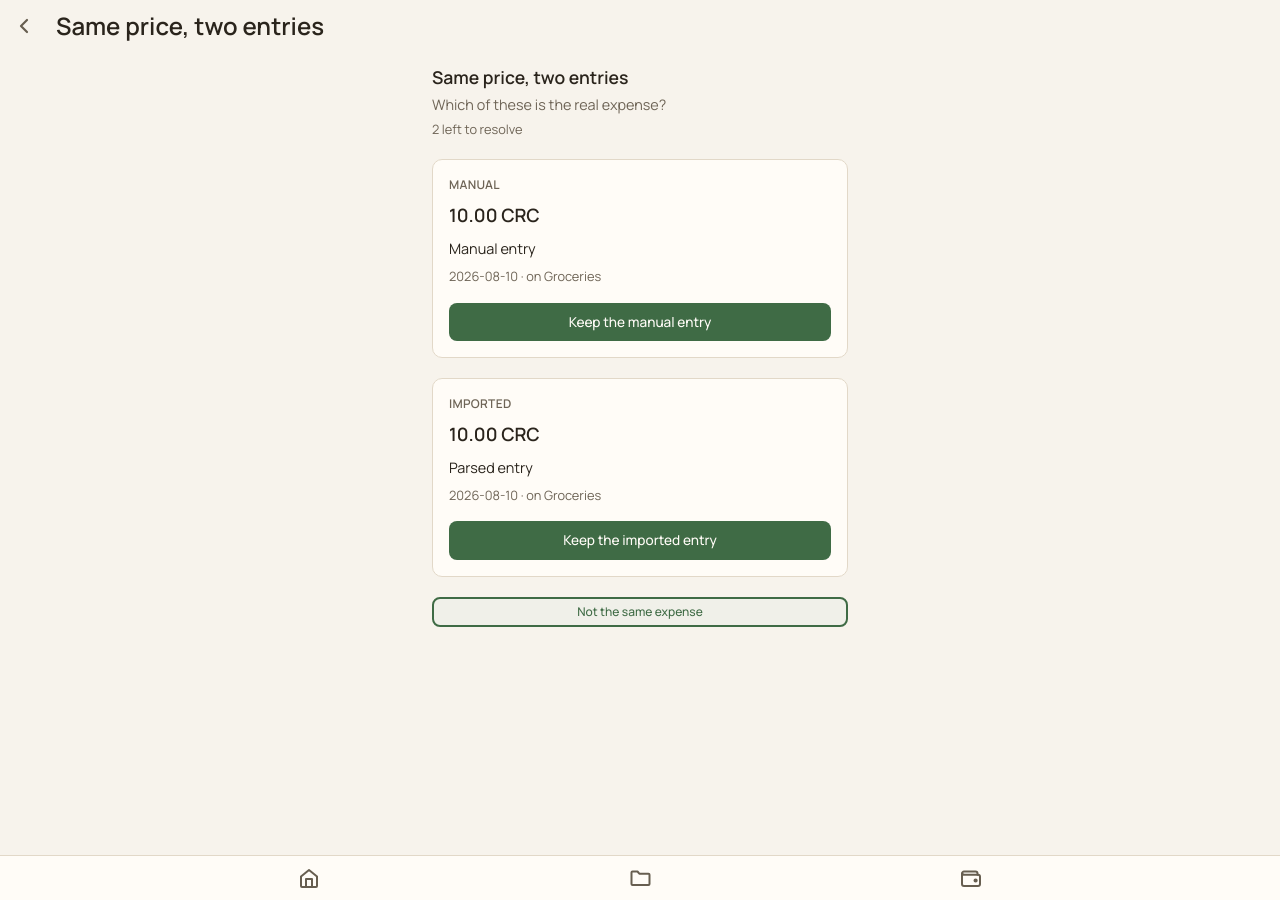
Scenario: ConflictReviewPanel › picking the manual entry resolves manual_survivor and advances to the next collision
Click the button "Keep the manual entry".
click(640, 322)  # box [449,303,831,341]
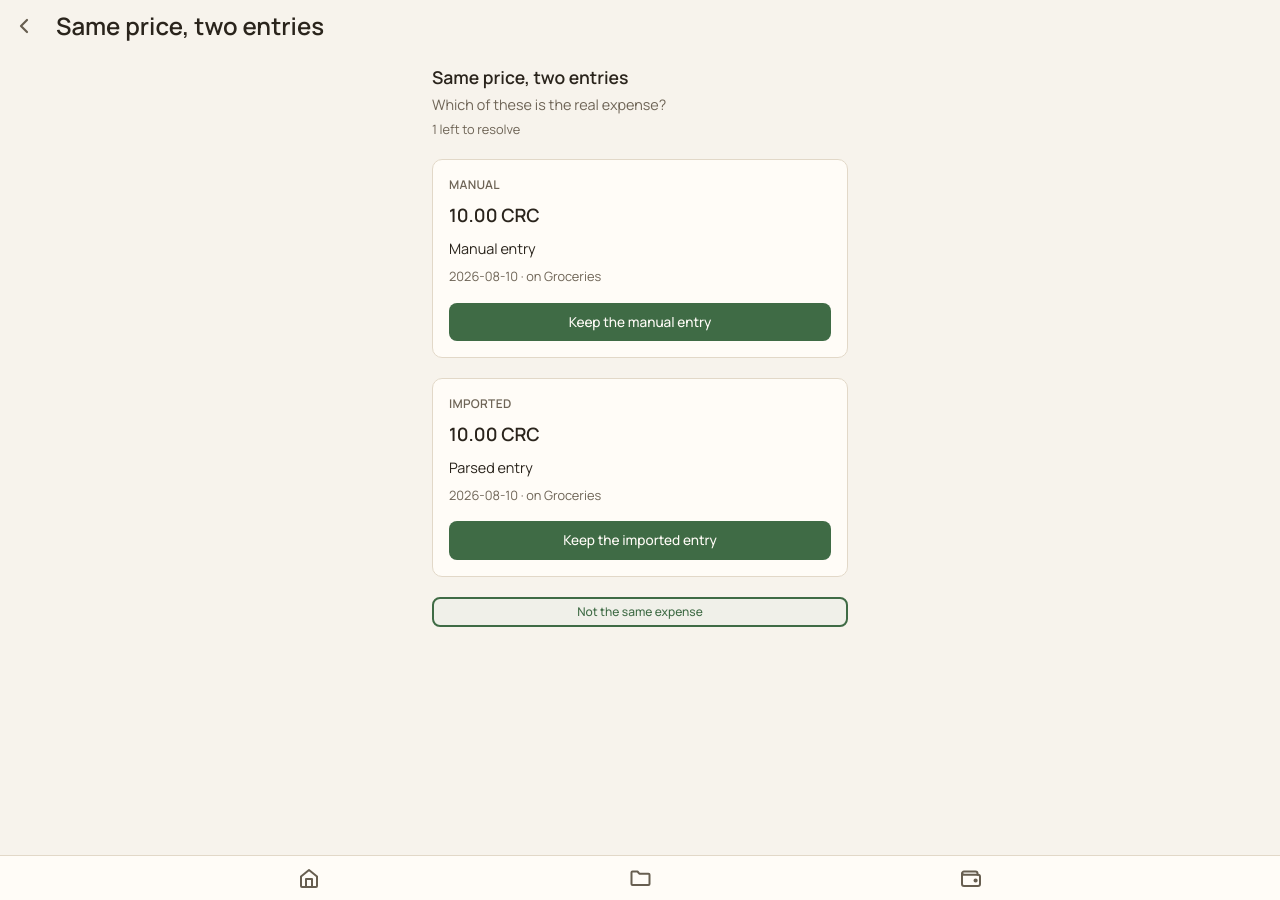
Expected: the text "1 left to resolve" is shown, [432,120,520,138]
